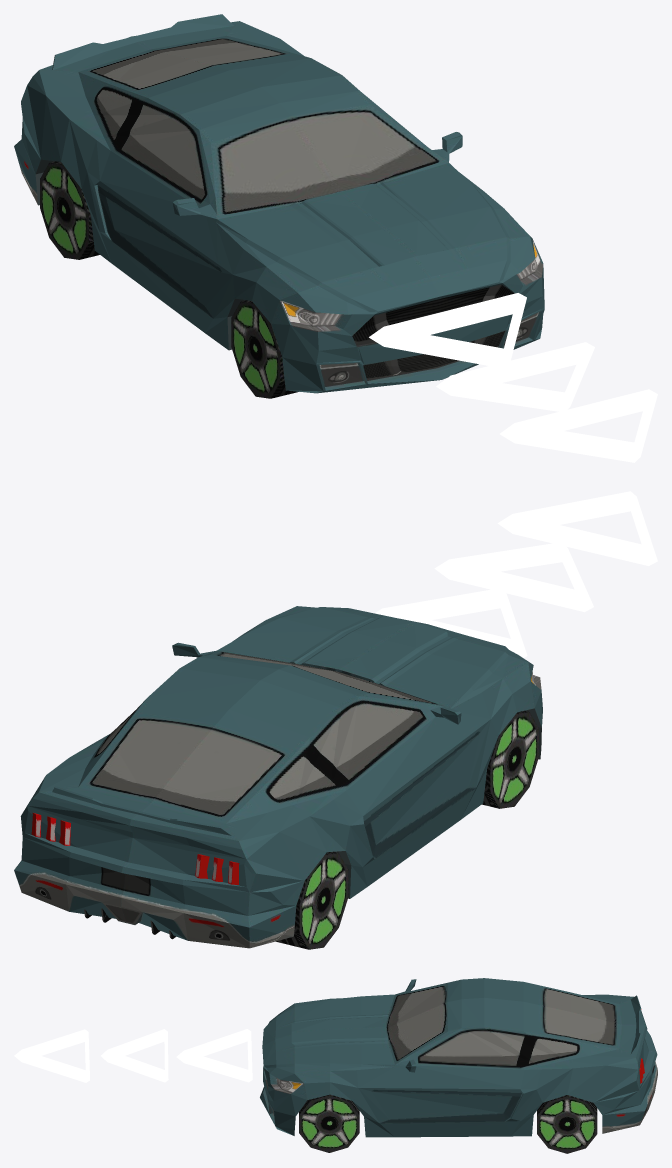
Rendered from cararrow.glb.
The picture shows the model from 3 angles, top to bottom: view 1: azimuth 30°, elevation 25°; view 2: azimuth 150°, elevation 25°; view 3: azimuth 270°, elevation 25°; orthographic projection. The views are drawn at different scales.
Parts seen in each view (by area): view 1: SOWXPDD9QMF2G5FUI03HPQR2D, Object_2.002, Object_2.001, Object_2; view 2: SOWXPDD9QMF2G5FUI03HPQR2D, Object_2.002, Object_2, Object_2.001; view 3: SOWXPDD9QMF2G5FUI03HPQR2D, Object_2.001, Object_2.002, Object_2.
Part boxes in pixels (x1,y1,x2,y2): SOWXPDD9QMF2G5FUI03HPQR2D: [14, 14, 544, 398]; Object_2.002: [500, 389, 657, 462]; Object_2.001: [369, 293, 526, 365]; Object_2: [436, 342, 594, 411]; SOWXPDD9QMF2G5FUI03HPQR2D: [14, 606, 542, 949]; Object_2.002: [497, 491, 657, 565]; Object_2: [434, 542, 593, 612]; Object_2.001: [374, 588, 527, 657]; SOWXPDD9QMF2G5FUI03HPQR2D: [260, 978, 657, 1153]; Object_2.001: [176, 1029, 252, 1082]; Object_2.002: [14, 1029, 89, 1082]; Object_2: [101, 1029, 168, 1082].
Size of the model in its own units: 1.29 by 0.8077 by 4.04.
4 materials, 1 textured.
